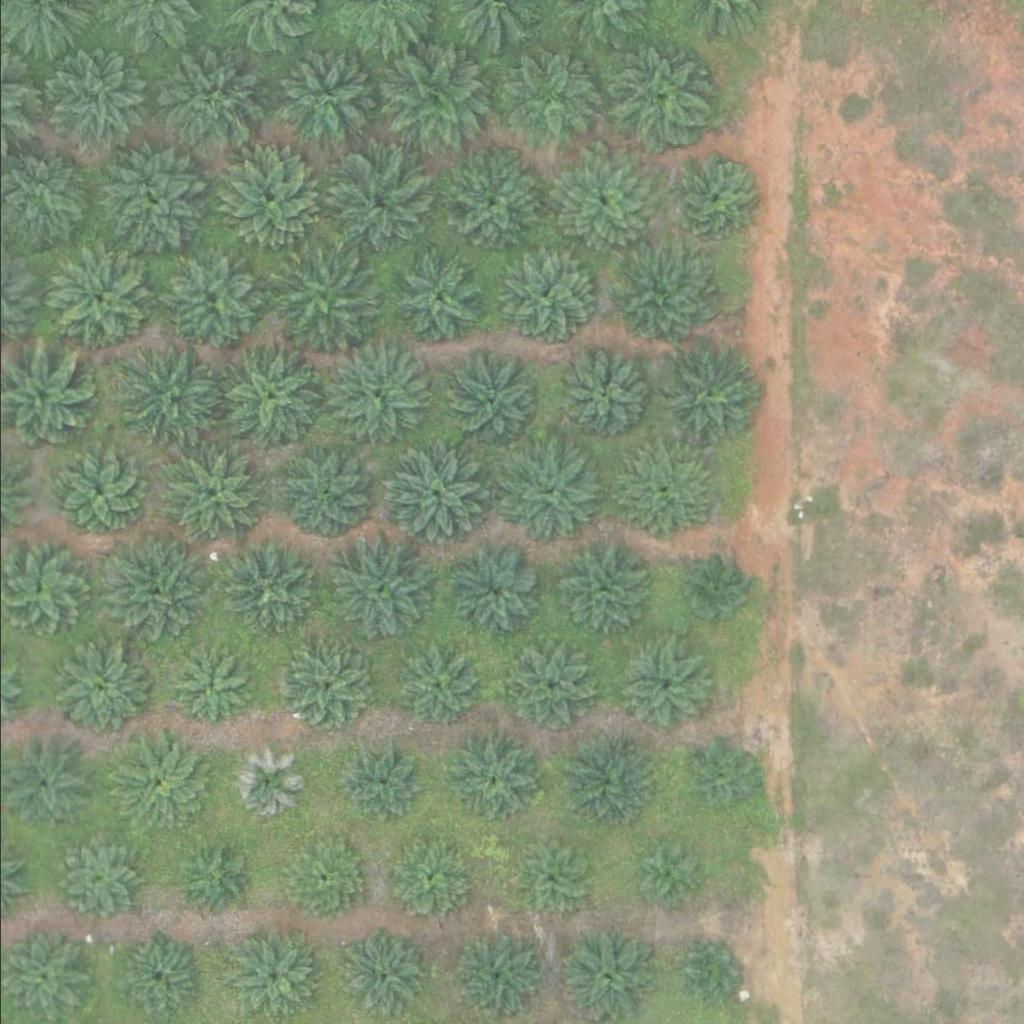Kelapa_Sawit: (544, 146, 658, 259), (432, 150, 546, 263), (268, 247, 382, 360), (211, 339, 325, 452), (112, 347, 226, 460), (38, 45, 151, 158), (322, 534, 435, 647), (318, 337, 432, 449), (96, 534, 210, 646), (375, 48, 488, 160), (267, 46, 380, 158), (318, 150, 431, 262), (94, 149, 207, 261), (648, 341, 761, 453), (378, 441, 491, 553), (155, 54, 256, 154), (219, 152, 320, 252), (605, 249, 706, 349), (162, 254, 263, 354), (546, 350, 647, 450), (440, 352, 541, 452), (608, 443, 709, 543), (502, 445, 603, 545), (550, 539, 651, 639), (442, 542, 543, 642), (218, 540, 319, 640), (612, 636, 713, 736), (109, 738, 210, 838), (44, 826, 145, 926), (47, 247, 148, 347), (606, 45, 706, 145), (496, 58, 596, 158), (497, 249, 597, 349), (386, 252, 486, 352), (275, 444, 375, 544), (158, 446, 258, 546), (51, 640, 151, 740), (48, 443, 148, 543), (500, 644, 589, 732), (276, 834, 365, 922), (170, 835, 258, 923), (558, 738, 646, 826), (445, 735, 533, 823), (379, 837, 467, 925), (670, 153, 758, 240), (387, 641, 475, 728), (277, 644, 365, 731), (450, 933, 538, 1020), (334, 932, 422, 1019), (224, 933, 312, 1020), (172, 650, 248, 725), (508, 840, 583, 915), (340, 744, 415, 819), (226, 746, 301, 821), (687, 745, 750, 808), (640, 842, 703, 905), (685, 562, 748, 625), (680, 938, 742, 1000)
